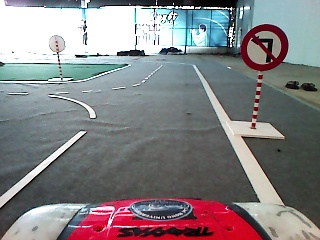ban: (236, 21, 293, 76)
